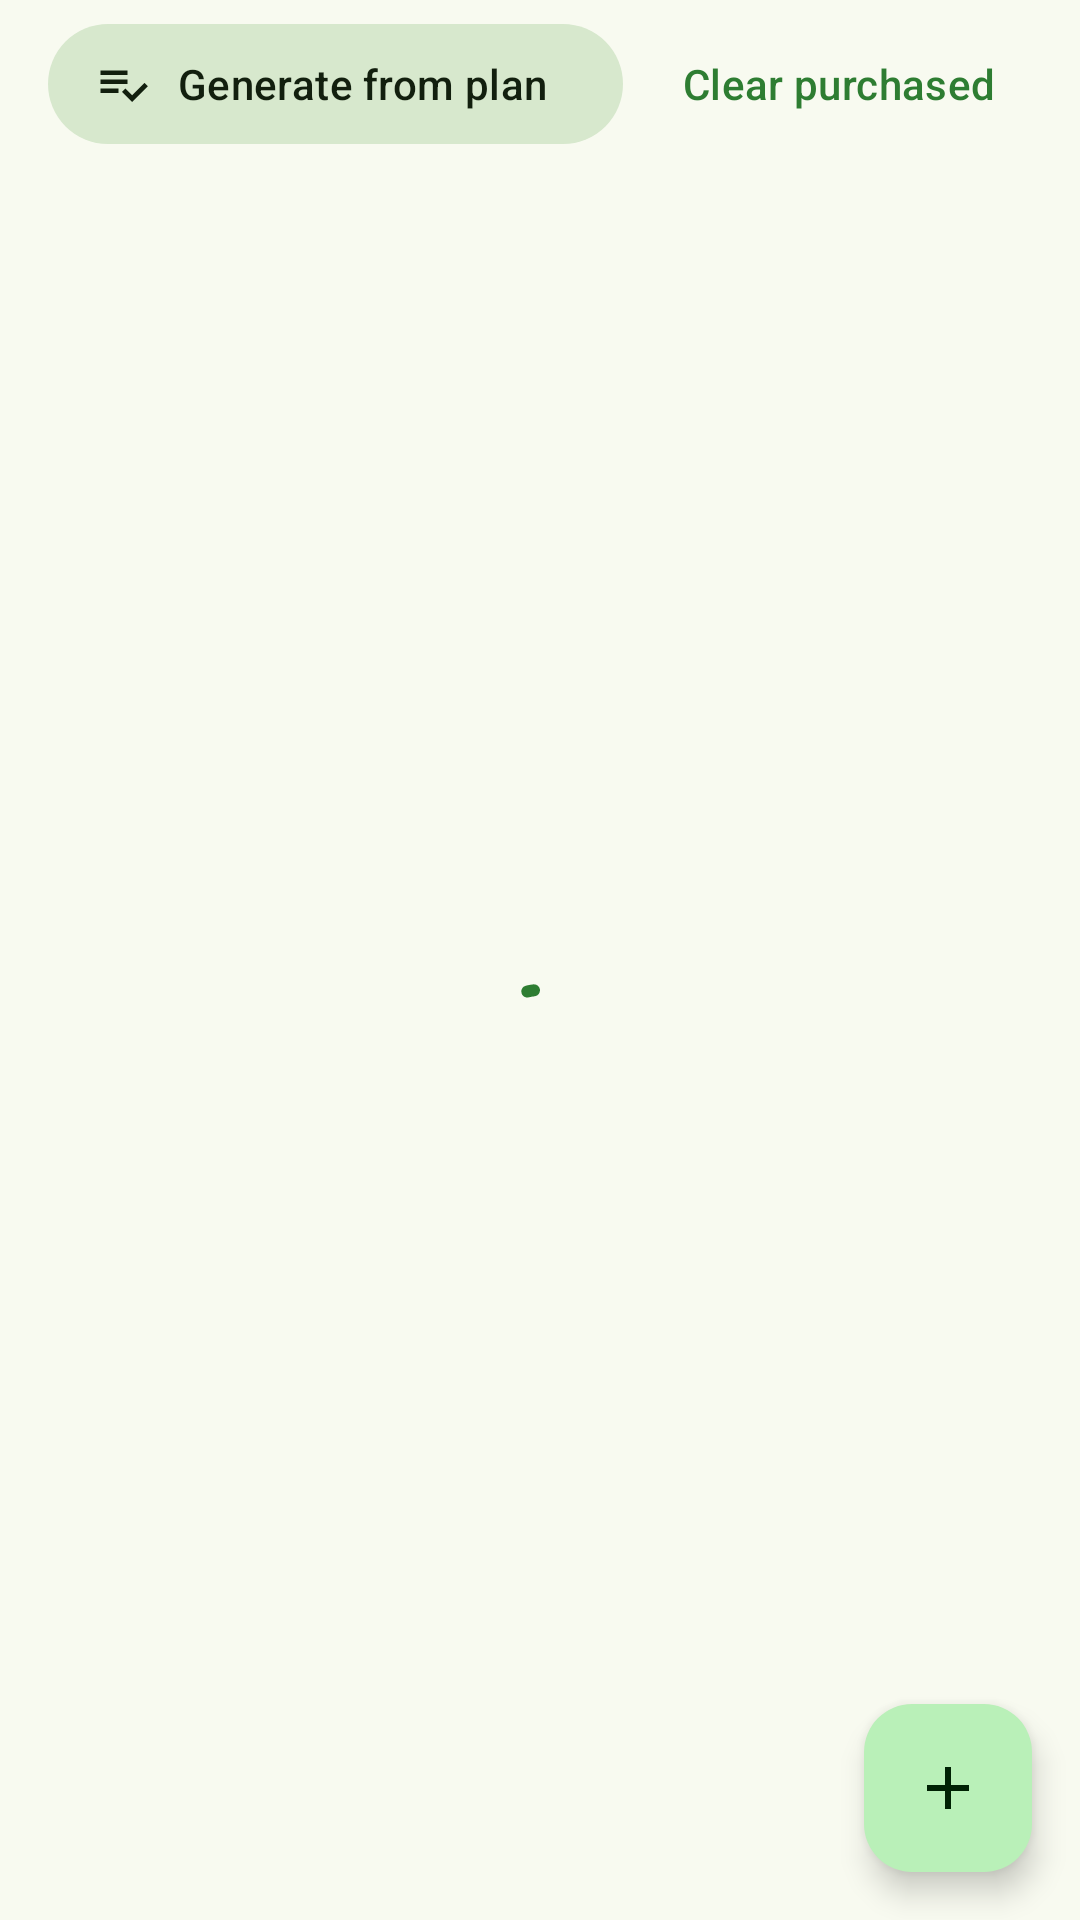

Icon bounding boxes for this 1080px×1920px phone screenshot, format (x1, y1, x2, y2):
Add product: (864, 1704, 1032, 1872)
